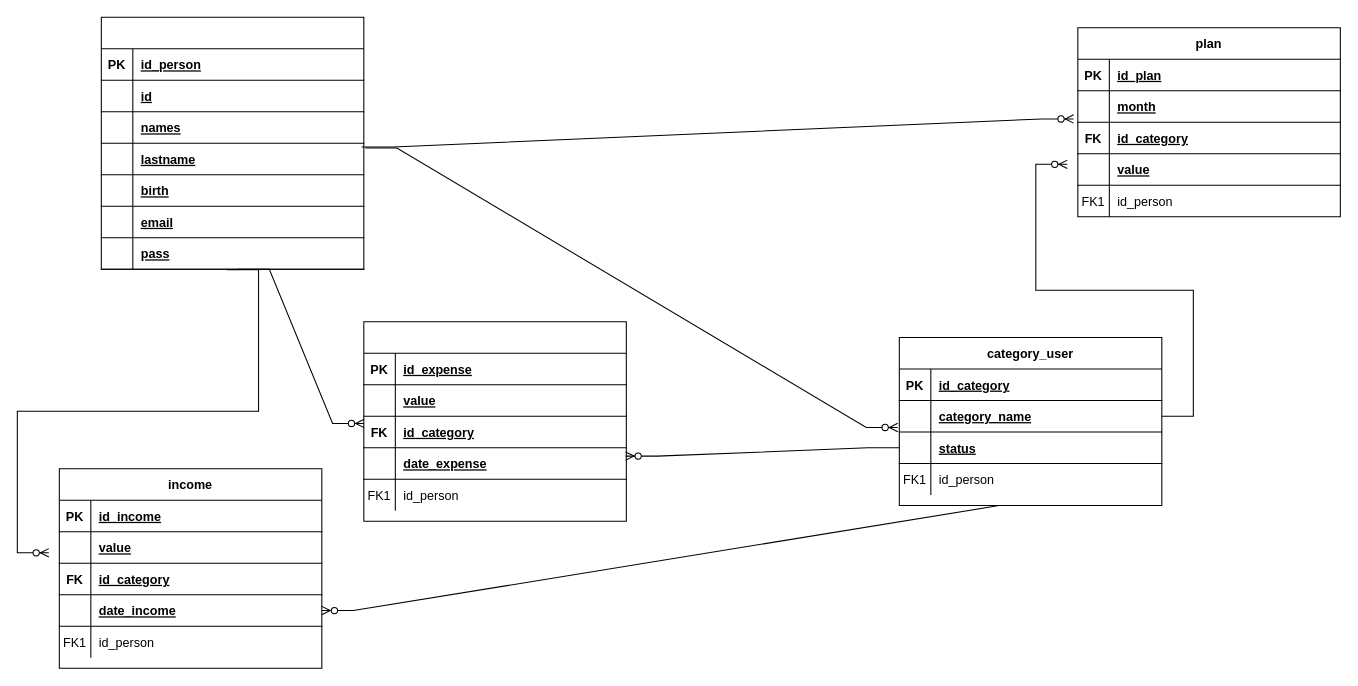
This 1358x686 diagram has some shape labels left out. Here are the shapes that lost their labels. From the top down, the box of each, then its label:
(100, 16, 364, 269): users
(363, 321, 626, 521): expenses
